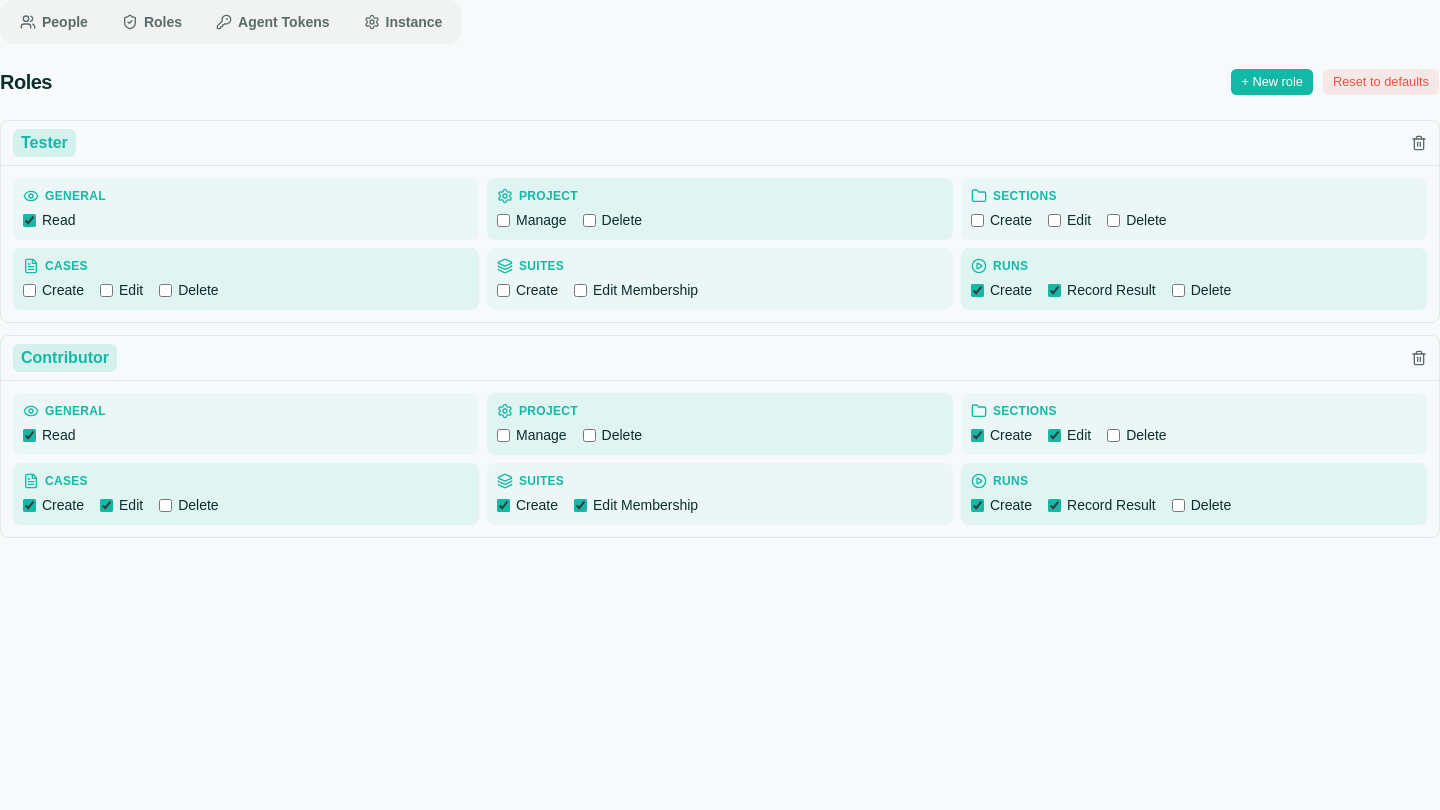
Scenario: RolesPage › delete role › does not delete immediately — opens a confirmation dialog naming the role first
This screenshot has width=1440, height=810.
Click the button named "Delete Tester" at (1419, 143), box top-left (1411, 135), bottom-right (1427, 151)
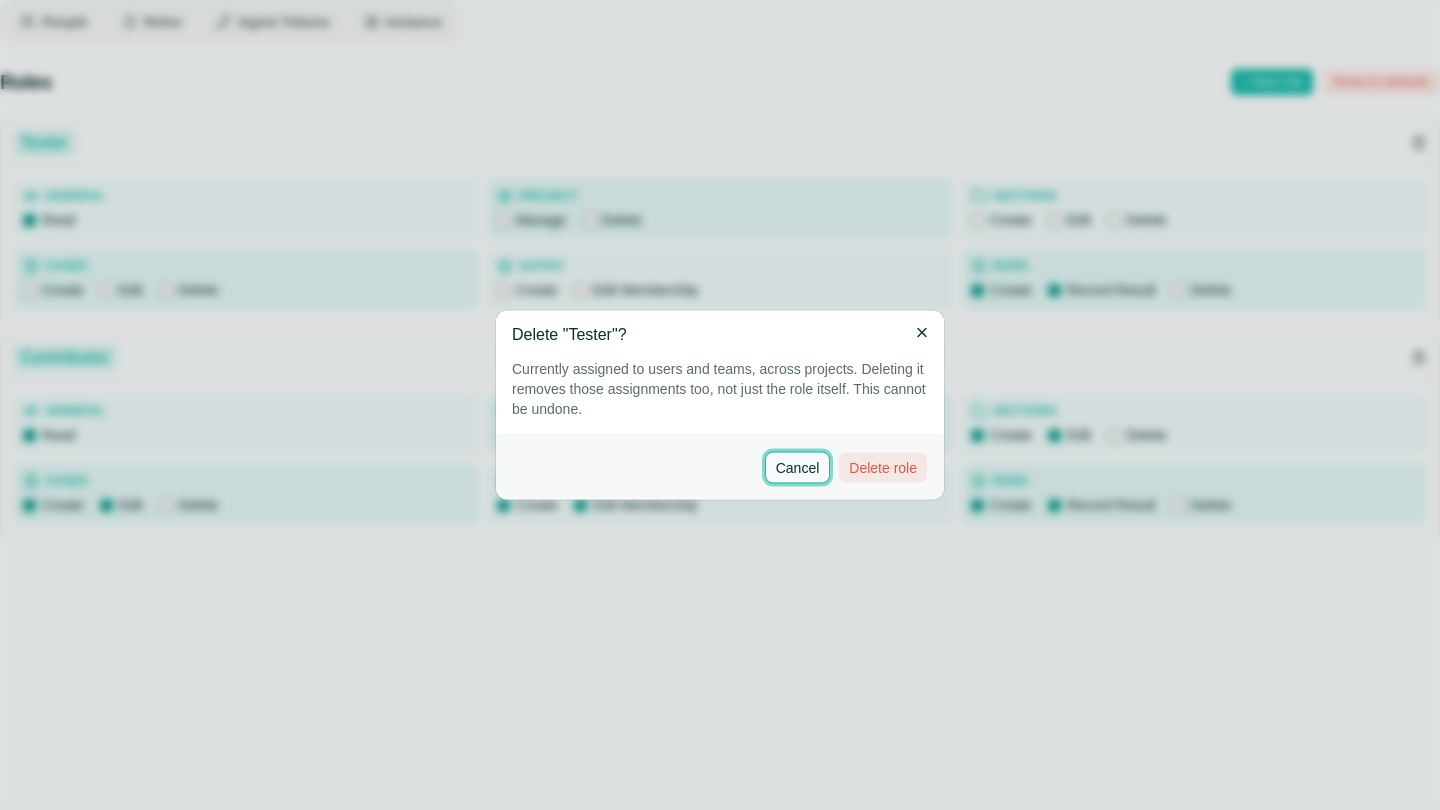
Expected: the dialog shows "Tester", top-left (512, 326), bottom-right (626, 342)
